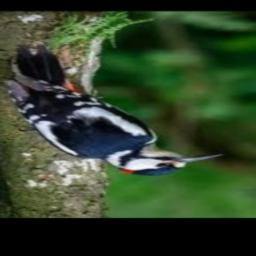Woodpecker: (3, 45, 222, 176)
